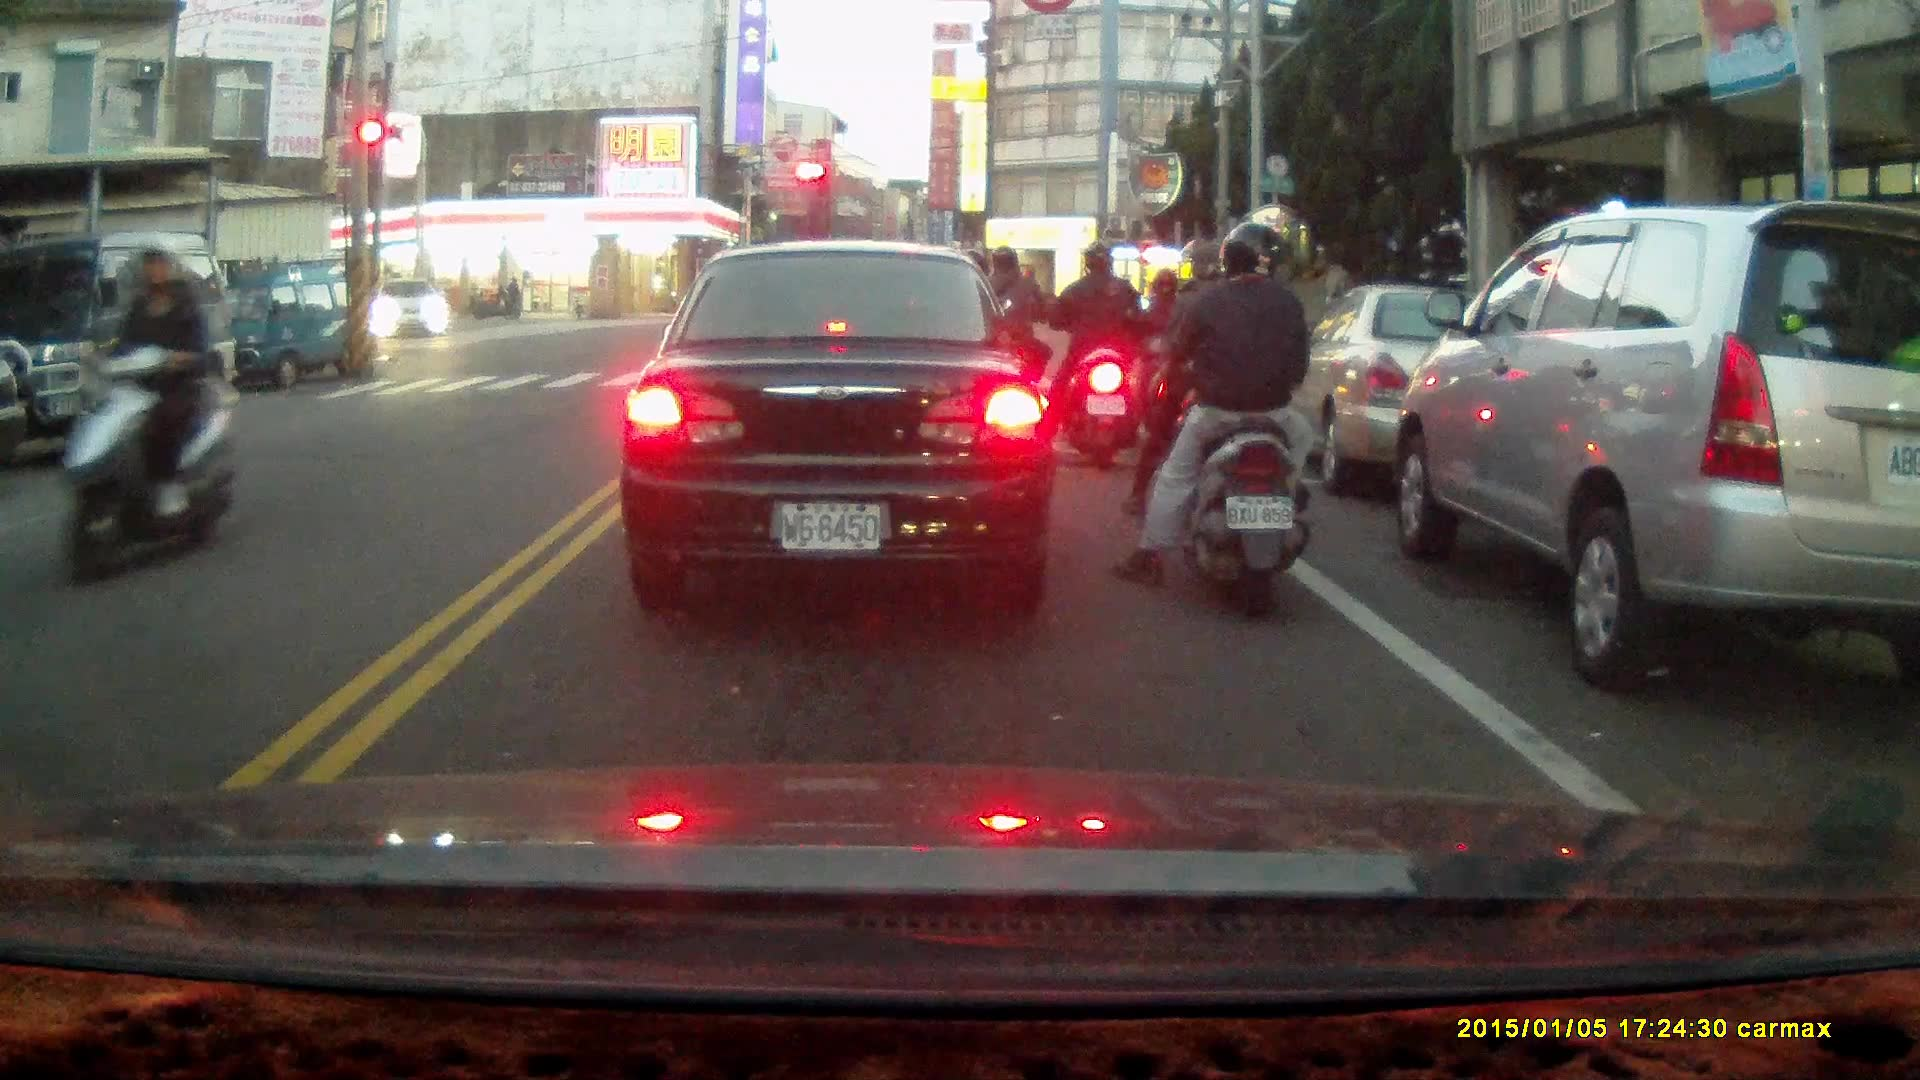pedestrian: (494, 272, 517, 316)
rider: (1108, 219, 1318, 622), (54, 242, 241, 588), (1124, 234, 1257, 535), (1048, 243, 1141, 469), (964, 245, 1050, 446), (1133, 268, 1203, 449)
vehicle: (1391, 195, 1920, 685), (617, 243, 1061, 606), (1268, 282, 1545, 498), (1, 234, 239, 458), (194, 255, 381, 393), (372, 277, 451, 343)
